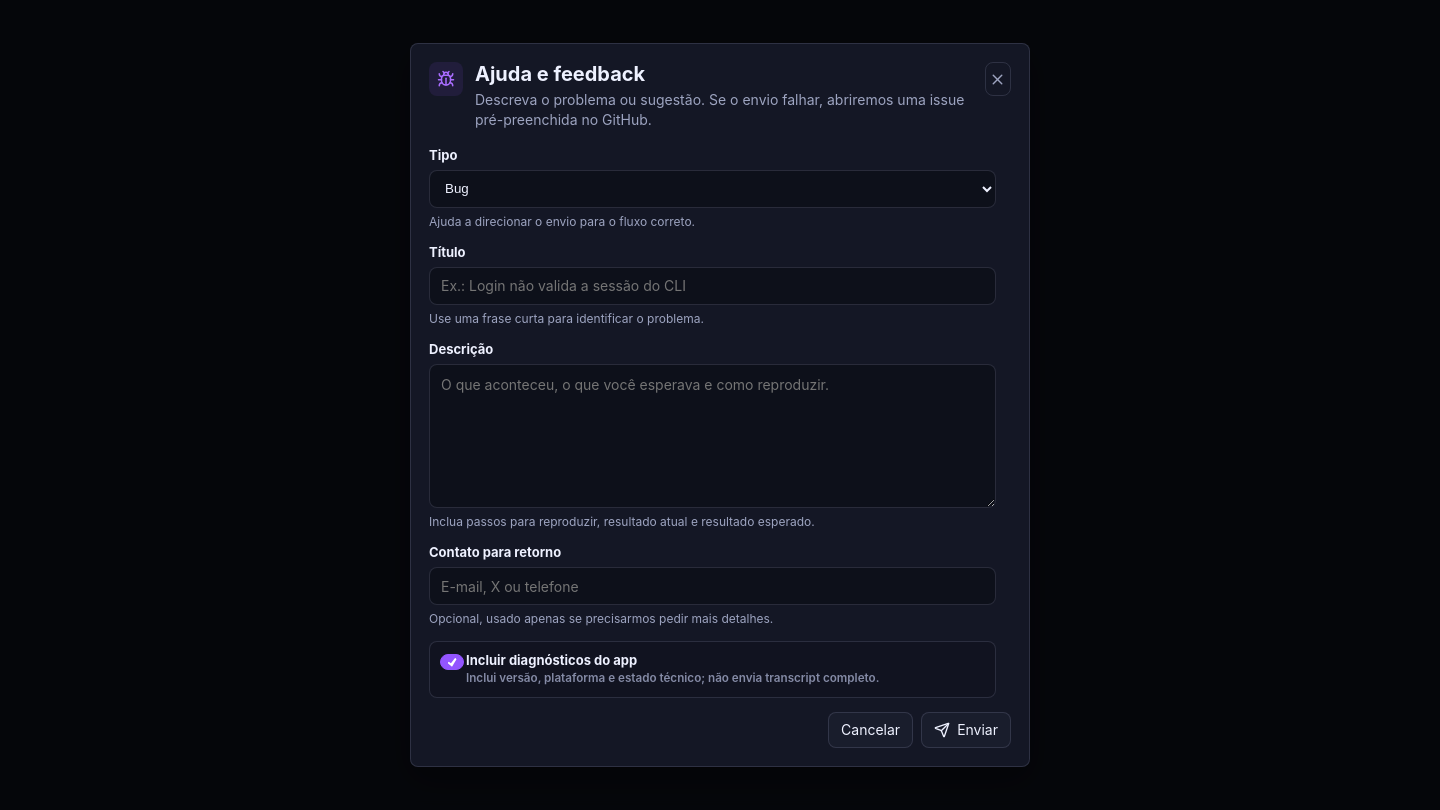
Test: FeedbackDialog — fallback to GitHub issue (code-driven, provider-neutral) › keeps an unknown result code provider-neutral in pt-BR
Type "Something broke" into the field labelled "Título" at (712, 286), box [429,267,996,305]
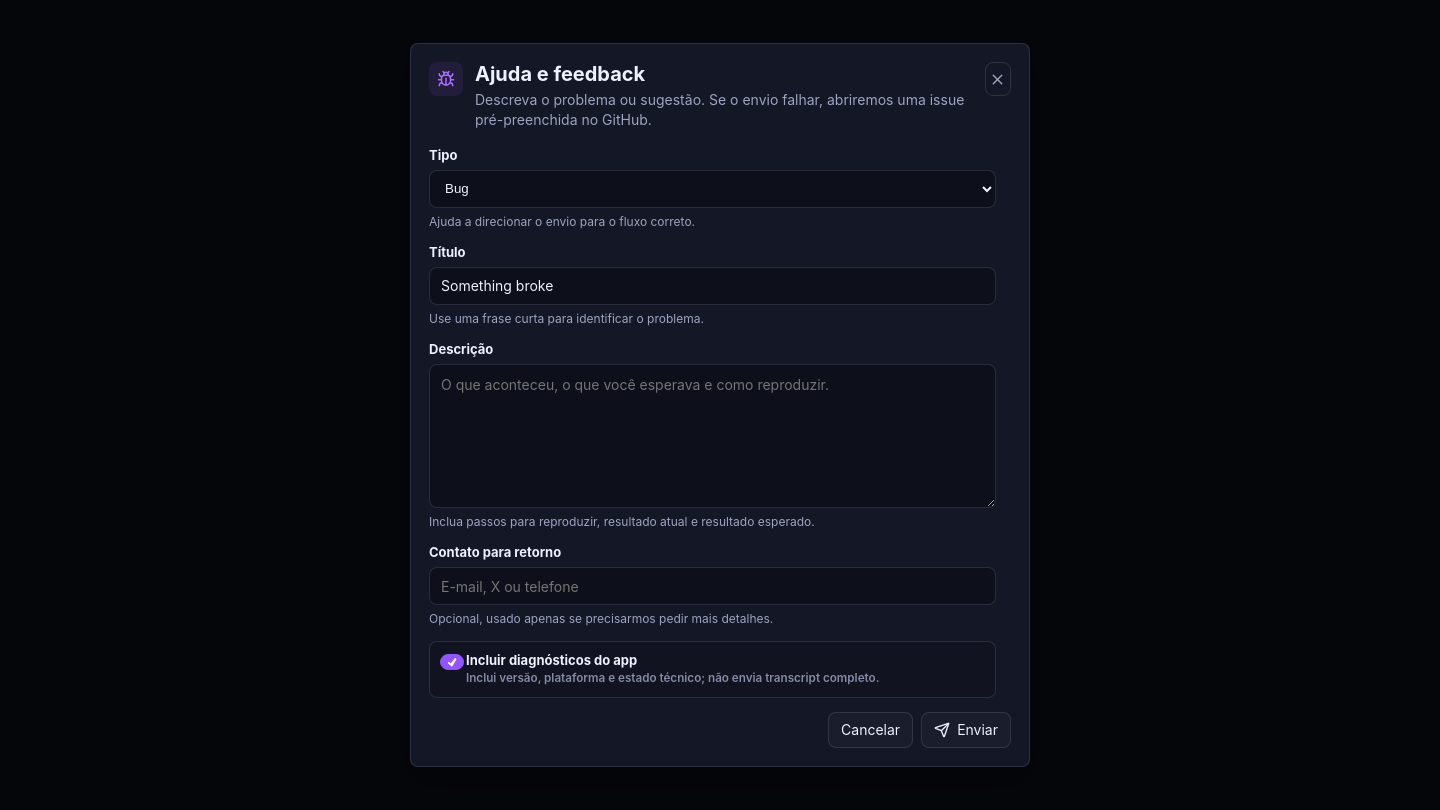
Type "It failed in a reproducible way" into the text box labelled "Descrição" at (712, 436), box [429,364,996,508]
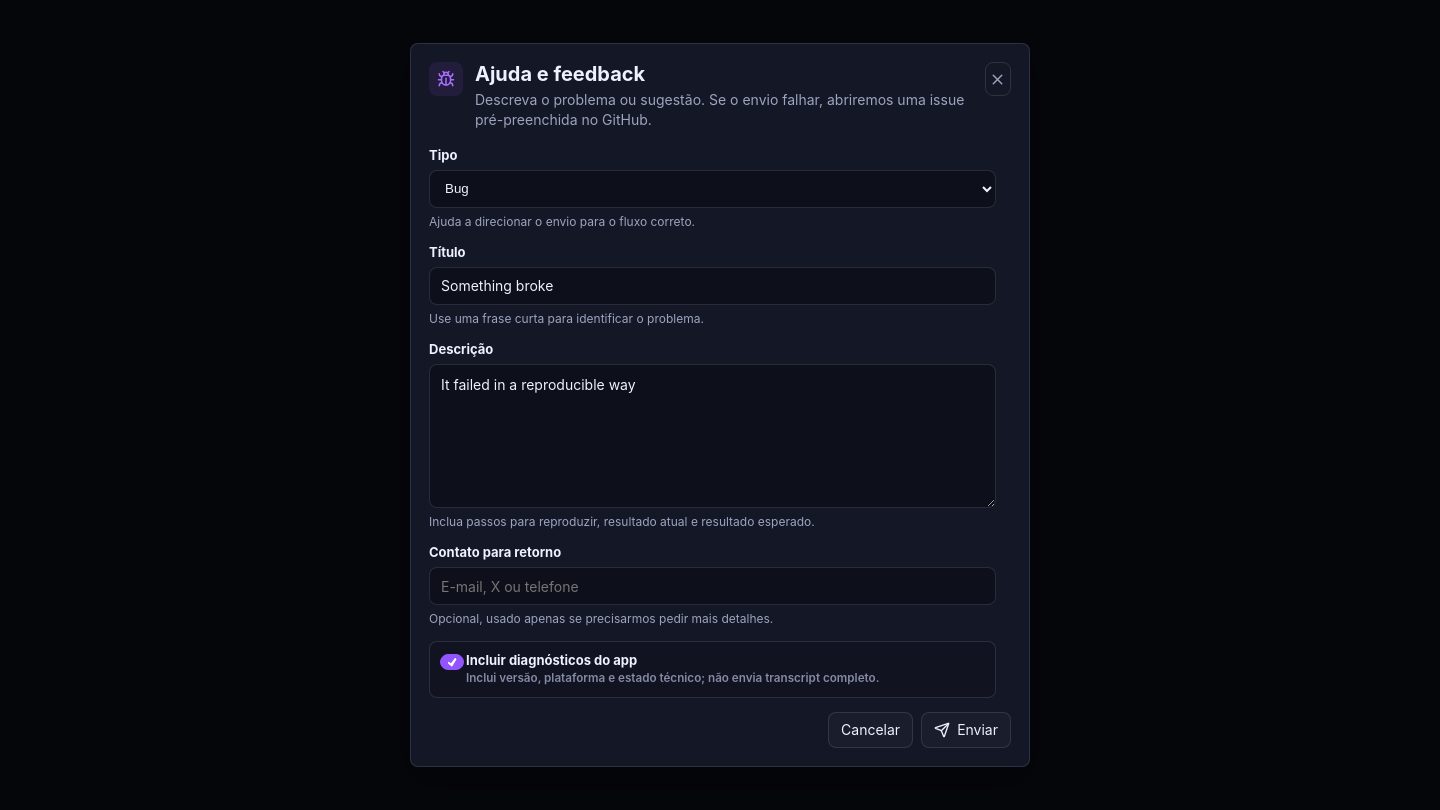
Click the button "Enviar" at (966, 730), box [921,712,1011,748]
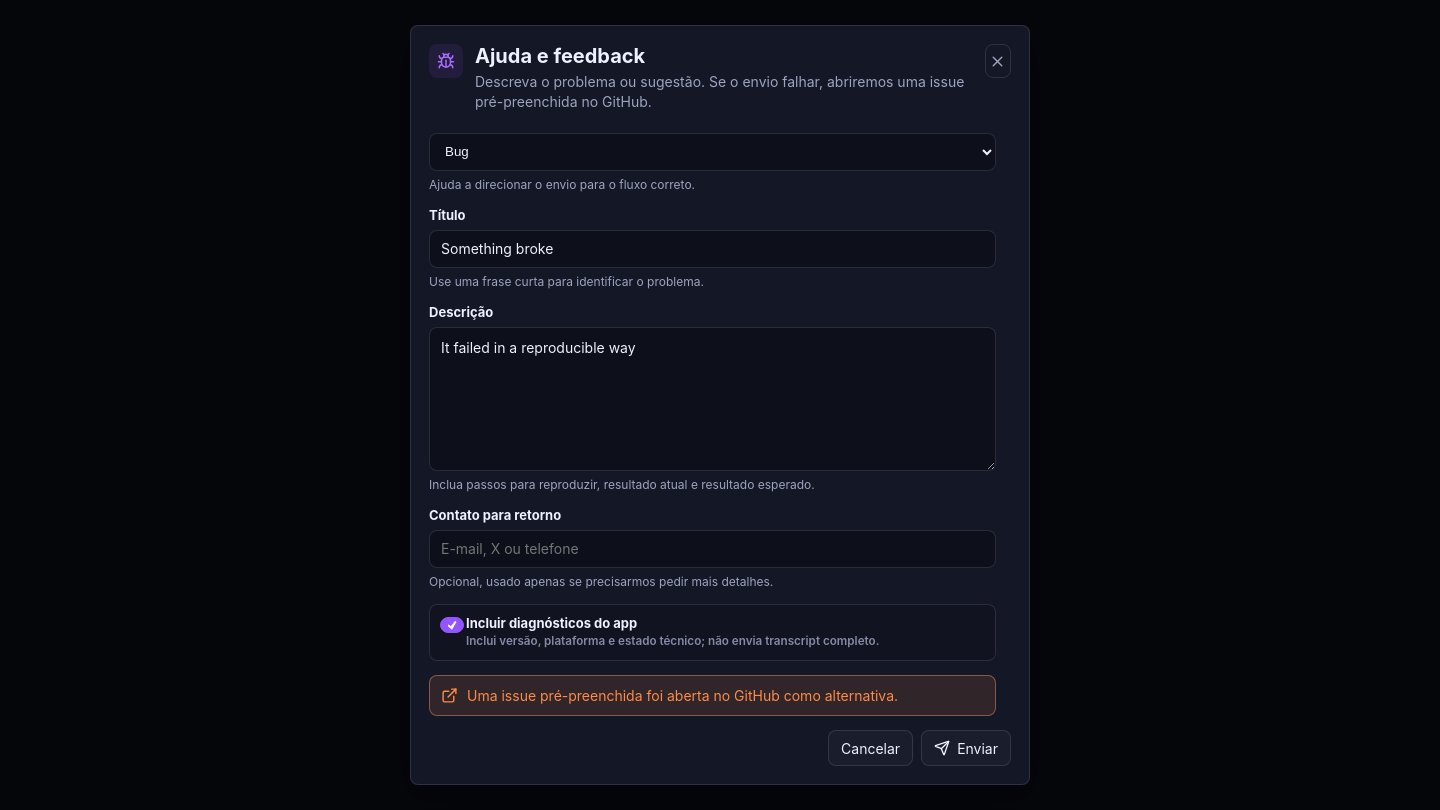
expect the text "Uma issue pré-preenchida foi aberta no GitHub como alternativa." is shown: met, box [467,686,898,706]
